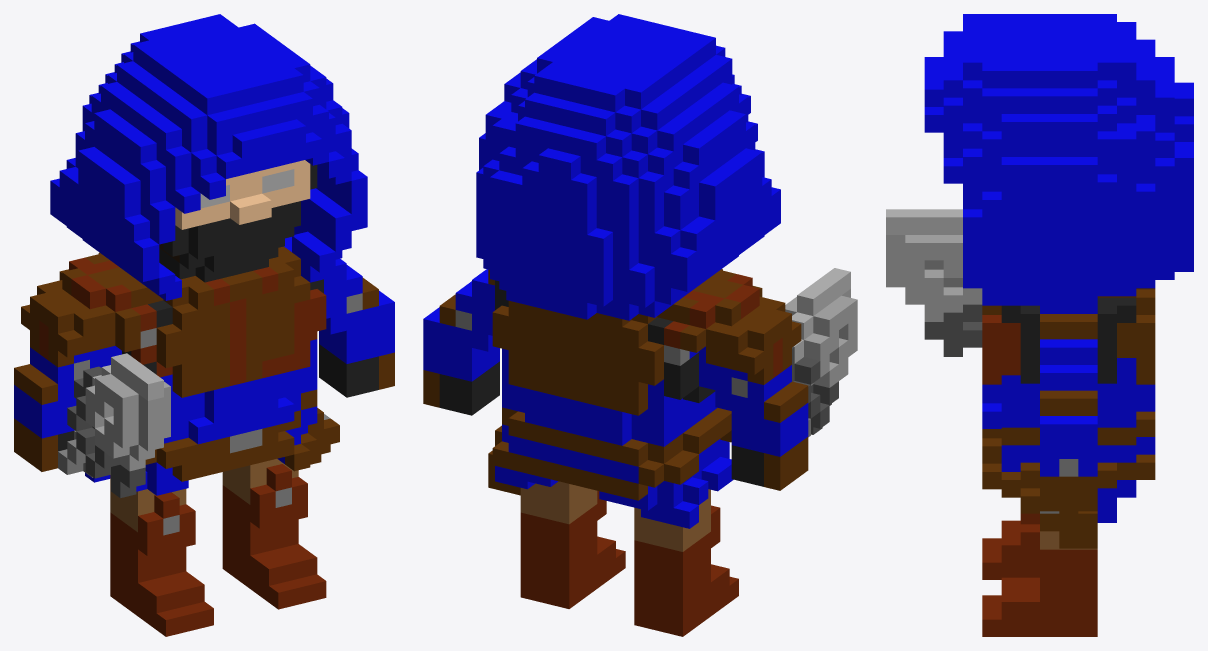
Rendered from Player001_Level002.obj.
The picture shows the model from 3 angles, left to right: view 1: azimuth 30°, elevation 25°; view 2: azimuth 150°, elevation 25°; view 3: azimuth 270°, elevation 25°; orthographic projection. The views are drawn at different scales.
Size of the model in its own units: 2.2 by 3.2 by 1.6.
Materials: 1 (1 with a texture image).
